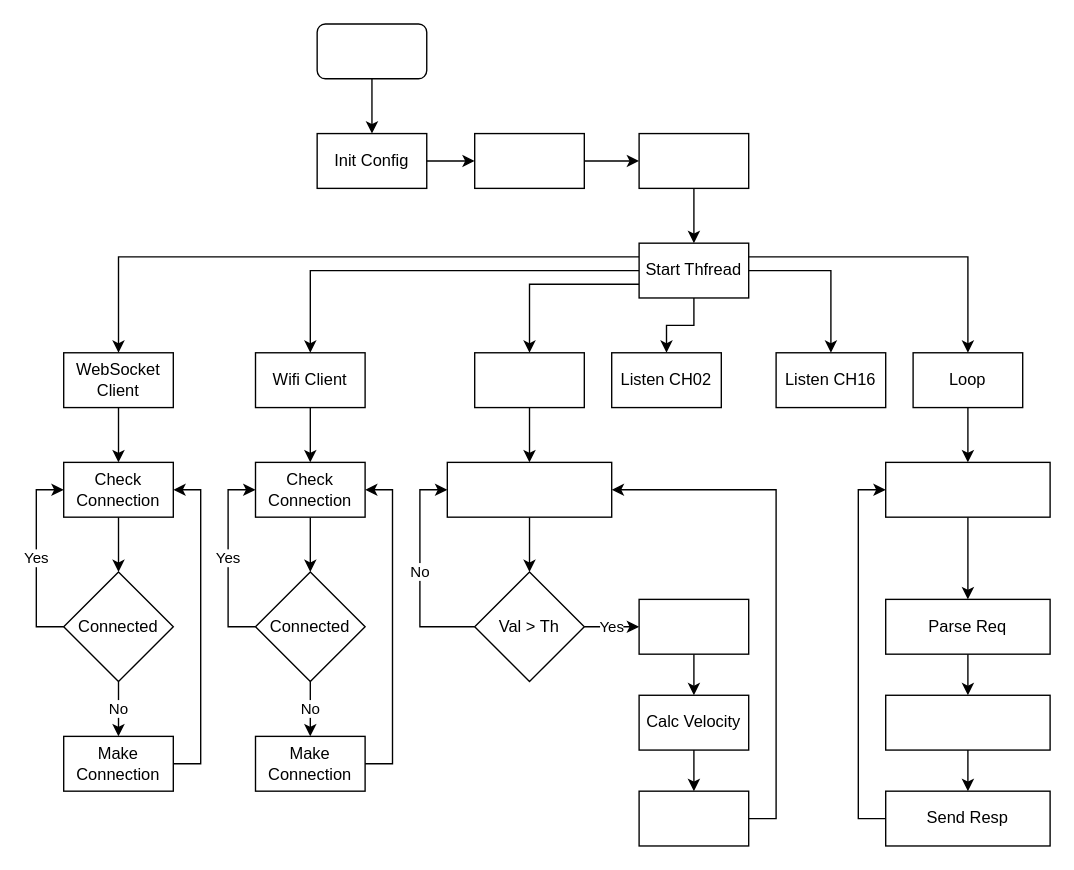
This 1074x870 diagram has some shape labels left out. The centre of each missing label's shape, as x and y in pixels:
"Init Web Server" goes at point 528,160.
"Init Wifi AP" goes at point 693,160.
"Listen CH01" goes at point 528,379.
"Process Req" goes at point 967,722.
"Read Analog" goes at point 529,489.
"Read Avg" goes at point 693,626.
"Receive Req" goes at point 967,489.
"Send MIDI" goes at point 693,818.
"Start" goes at point 371,51.
